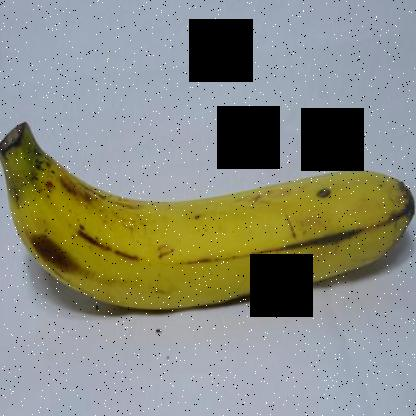ripe: (0, 109, 412, 330)
